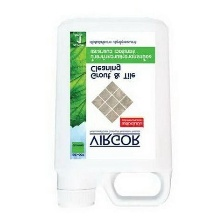cleaning_solution: (51, 12, 175, 210)
